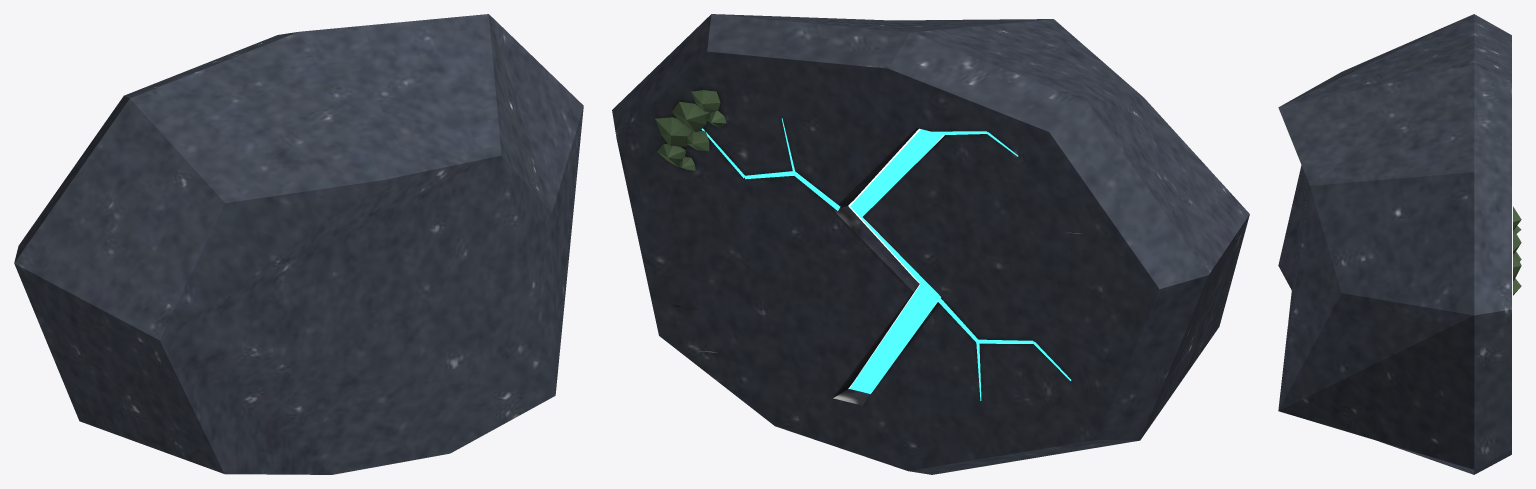
3 views of the same model, side by side, from view 1: azimuth 30°, elevation 25°; view 2: azimuth 150°, elevation 25°; view 3: azimuth 270°, elevation 25° (orthographic). The views are drawn at different scales.
Parts seen in each view (by area): view 1: Grey_blue_carved_stone; view 2: Grey_blue_carved_stone, glow_Teal_crystal_core, Soft_muted_moss; view 3: Grey_blue_carved_stone, Soft_muted_moss.
Boxes of the visible parts, <box> form: Grey_blue_carved_stone: <box>14,14,583,474</box>; Grey_blue_carved_stone: <box>612,14,1249,474</box>; glow_Teal_crystal_core: <box>701,118,1071,400</box>; Soft_muted_moss: <box>655,90,726,170</box>; Grey_blue_carved_stone: <box>1278,14,1511,474</box>; Soft_muted_moss: <box>1513,206,1521,295</box>.
Bounding box in the file's own units: 0.96 × 0.672 × 0.4.
Materials: 4 (2 with a texture image).
